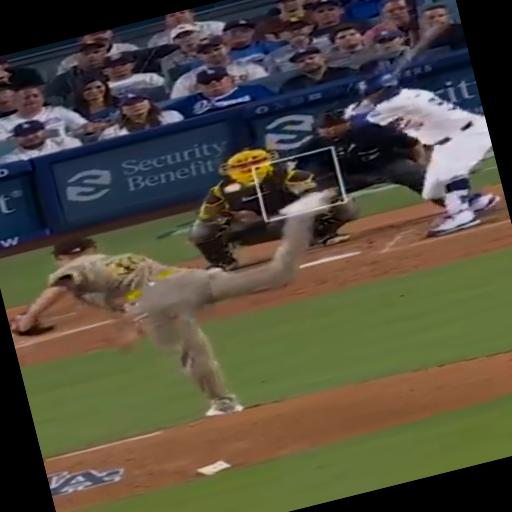bat: (392, 25, 446, 75)
